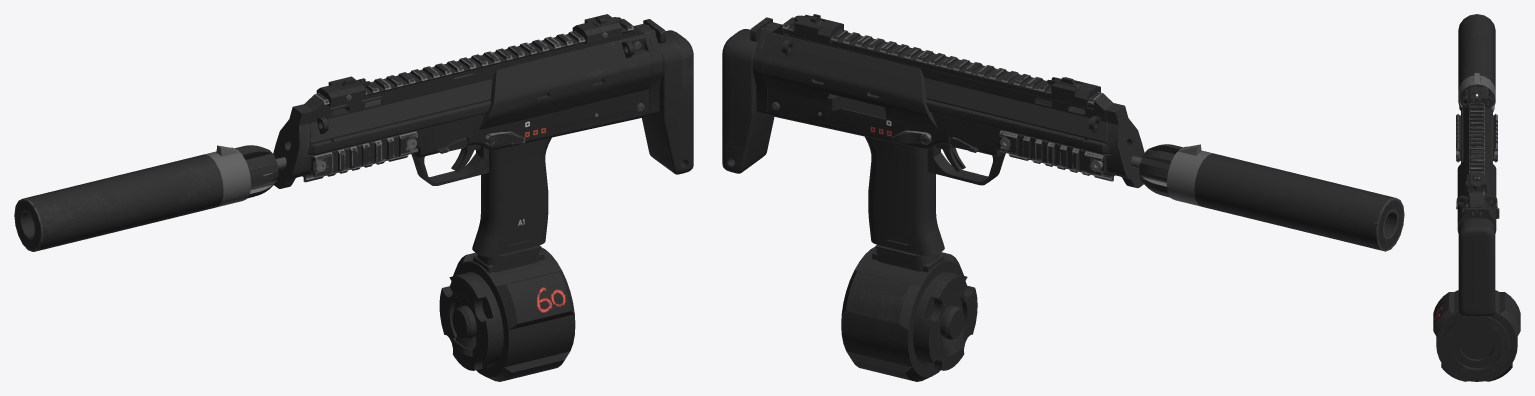
The picture shows the model from 3 angles, left to right: view 1: azimuth 30°, elevation 25°; view 2: azimuth 150°, elevation 25°; view 3: azimuth 270°, elevation 25°; orthographic projection. The views are drawn at different scales.
Parts seen in each view (by area): view 1: Cube.031_low, Cylinder.013_low, Cube_low, Cube.001_low, Cube.006_low, Cube.002_low, Cube.012_low, Cube.010_low, Cube.004_low, Cube.011_low, Cube.007_low, Cylinder.014_low (+3 smaller); view 2: Cube.031_low, Cylinder.013_low, Cube_low, Cube.003_low, Cube.006_low, Cube.002_low, Cube.012_low, Cube.010_low, Cube.005_low, Cube.013_low, Cube.007_low, Cylinder.014_low (+5 smaller); view 3: Cube.031_low, Cube.010_low, Cylinder.013_low, Cube.002_low, Cube_low, Cube.003_low, Cube.001_low, Cube.009_low, Cube.012_low, Cube.019_low, Cube.011_low, Cube.013_low (+6 smaller).
Boxes of the visible parts, x1,y1,x2,y2 form: Cube.031_low: [439, 237, 575, 381]; Cylinder.013_low: [14, 145, 251, 251]; Cube_low: [297, 26, 648, 177]; Cube.001_low: [479, 34, 652, 129]; Cube.006_low: [472, 137, 551, 256]; Cube.002_low: [314, 19, 634, 110]; Cube.012_low: [642, 35, 682, 149]; Cube.010_low: [644, 30, 693, 174]; Cube.004_low: [308, 79, 602, 155]; Cube.011_low: [310, 131, 417, 177]; Cube.007_low: [273, 104, 313, 188]; Cylinder.014_low: [235, 145, 278, 198]; Cube.031_low: [841, 236, 977, 381]; Cylinder.013_low: [1166, 144, 1404, 251]; Cube_low: [767, 24, 1119, 176]; Cube.003_low: [763, 32, 937, 128]; Cube.006_low: [864, 136, 944, 256]; Cube.002_low: [782, 17, 1103, 109]; Cube.012_low: [733, 33, 774, 148]; Cube.010_low: [722, 29, 771, 173]; Cube.005_low: [814, 78, 1109, 154]; Cube.013_low: [999, 130, 1106, 176]; Cube.007_low: [1104, 103, 1144, 188]; Cylinder.014_low: [1139, 144, 1182, 197]; Cube.031_low: [1433, 290, 1520, 381]; Cube.010_low: [1458, 224, 1495, 316]; Cylinder.013_low: [1458, 14, 1495, 105]; Cube.002_low: [1469, 103, 1484, 196]; Cube_low: [1463, 103, 1490, 203]; Cube.003_low: [1483, 156, 1496, 220]; Cube.001_low: [1457, 156, 1470, 220]; Cube.009_low: [1457, 203, 1496, 233]; Cube.012_low: [1458, 218, 1495, 233]; Cube.019_low: [1465, 207, 1488, 217]; Cube.011_low: [1456, 114, 1460, 162]; Cube.013_low: [1493, 114, 1497, 162].
Size of the model in its own units: 1357 by 651 by 228.
Materials: 1 (1 with a texture image).
